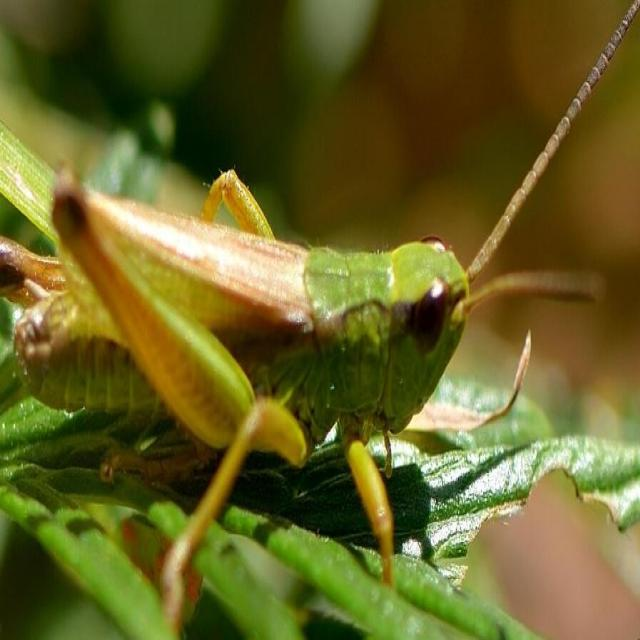ZhaMeng: (17, 134, 539, 482)
